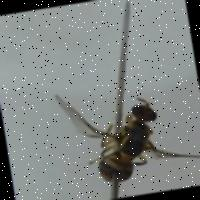Oriental-fruit-fly: (36, 61, 200, 197)
